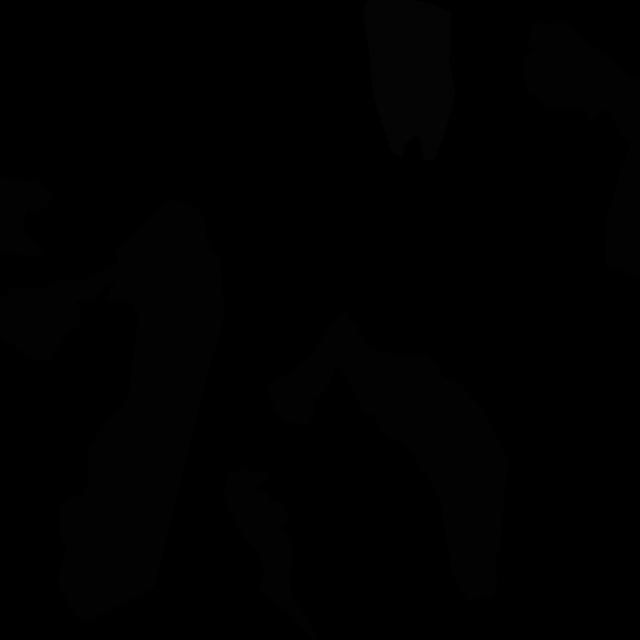cardboard: (268, 308, 508, 602), (56, 201, 224, 620), (524, 20, 640, 277), (222, 469, 319, 640), (0, 264, 118, 362), (0, 176, 54, 257)
soft_plastic: (362, 0, 455, 160)
